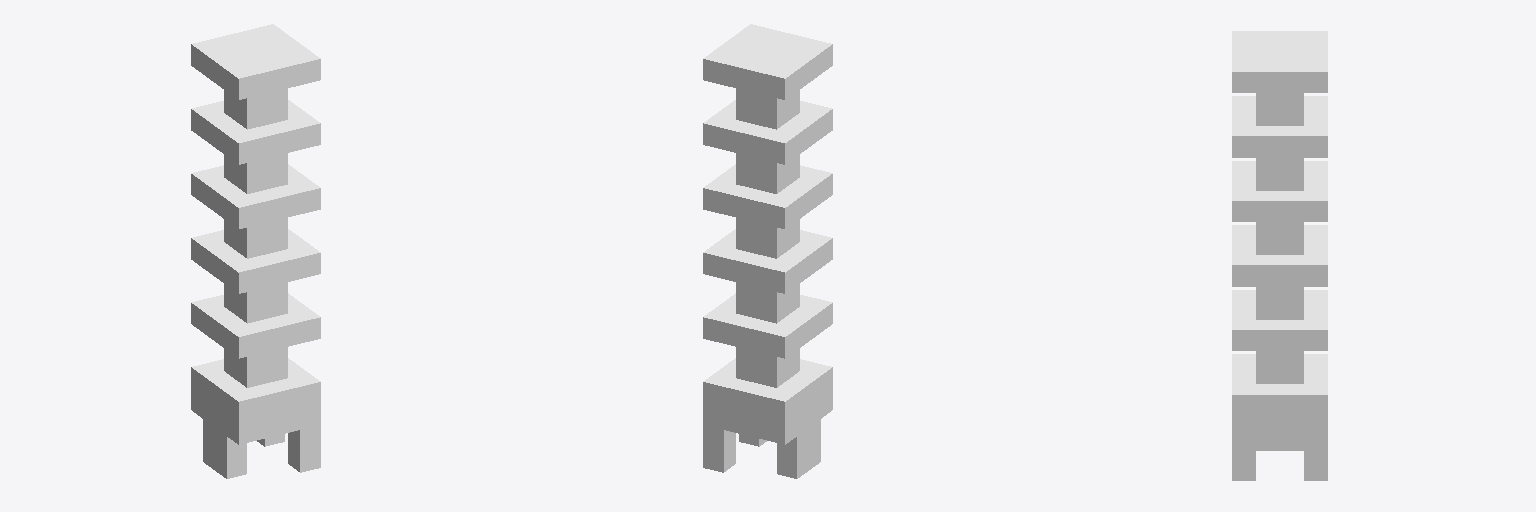
Rendered from robo_arm.obj.
3 renders of one model, left to right at view 1: azimuth 30°, elevation 25°; view 2: azimuth 150°, elevation 25°; view 3: azimuth 270°, elevation 25°, orthographic.
Parts seen in each view (by area): view 1: object 1; view 2: object 1; view 3: object 1.
Part boxes in pixels (bbox=[...]): object 1: bbox=[191, 24, 320, 478]; object 1: bbox=[703, 24, 832, 478]; object 1: bbox=[1232, 31, 1327, 480].
Size of the model in its own units: 0.4 by 1.9 by 0.4.